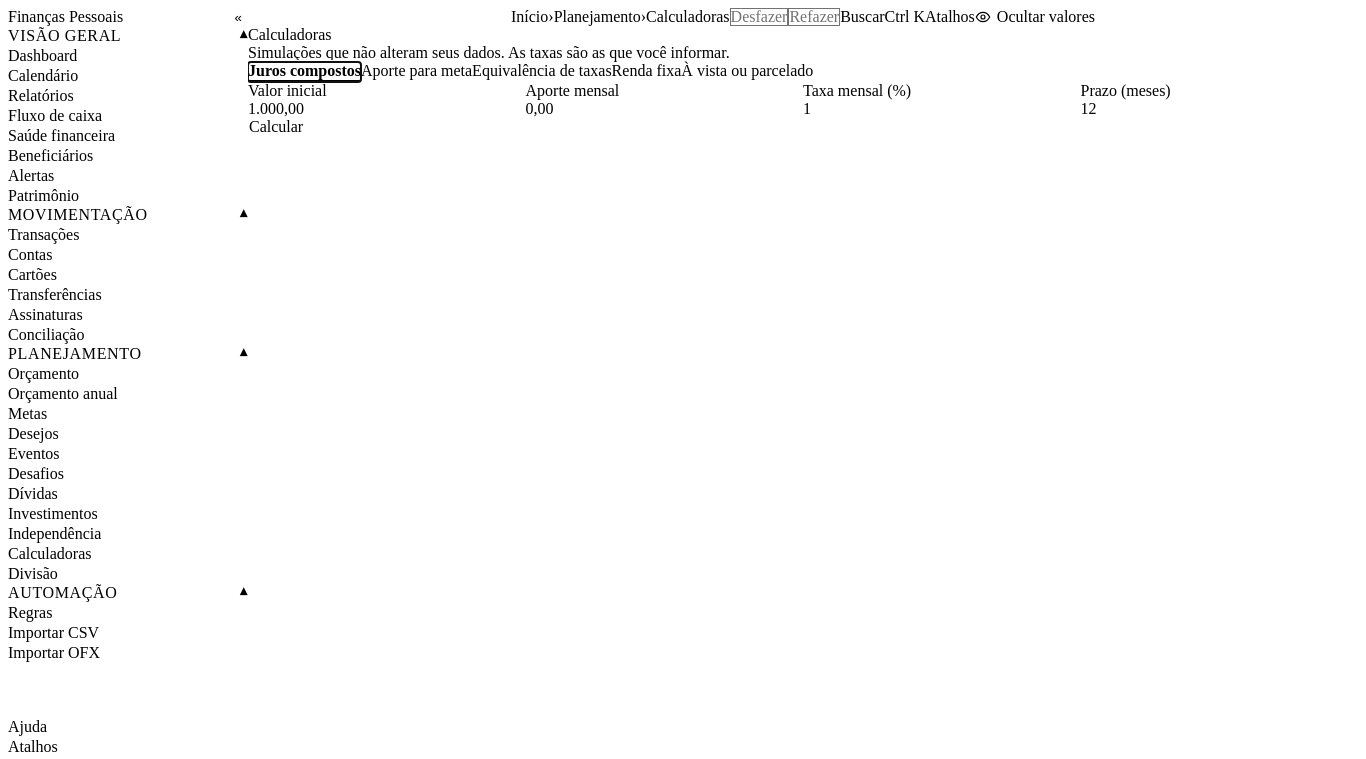
it: calculadoras: tela › critérios 1 e 7: troca de aba pelo teclado e veredito do parcelamento
Step 1. Press Arrowleft
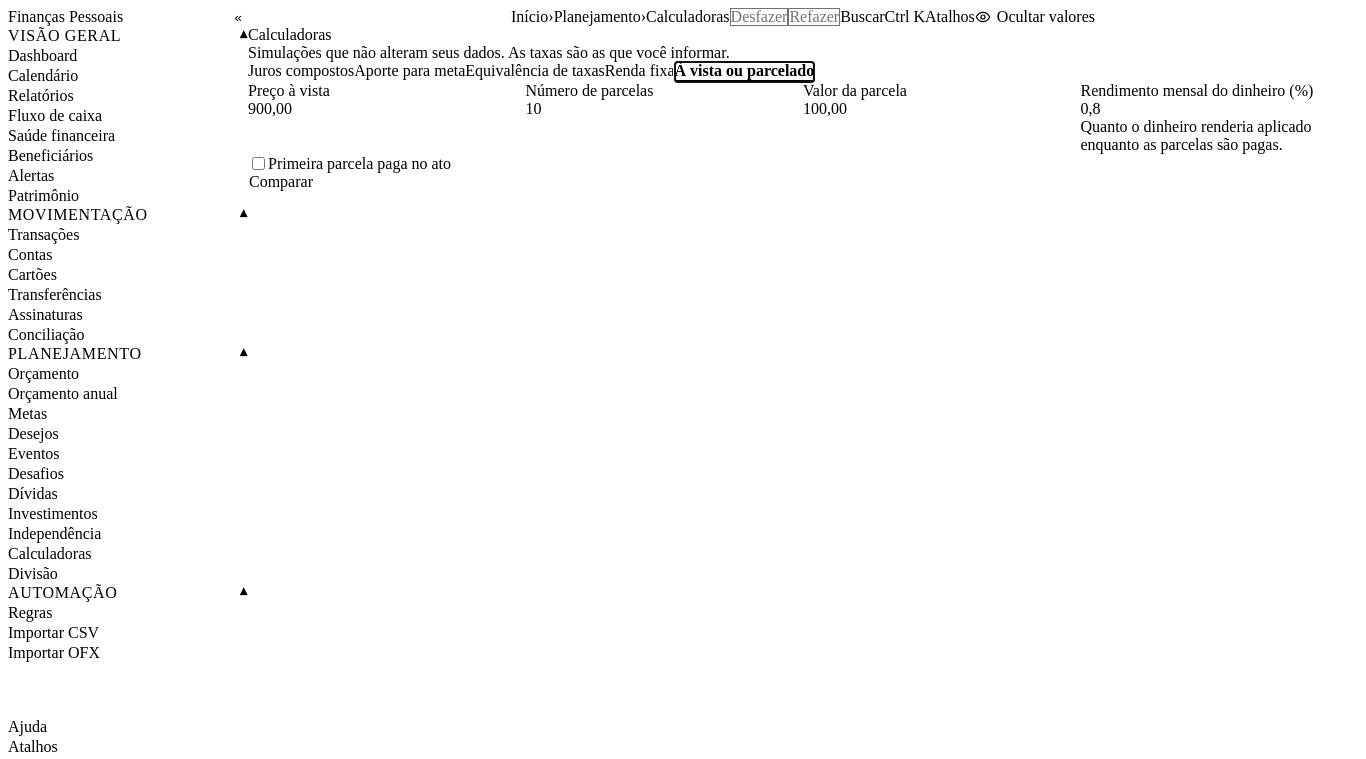
Expected: the tab "À vista ou parcelado" is selected, [674,62,814,82]
Step 2. Click the button "Comparar" → (281, 182), box [248,173,314,191]
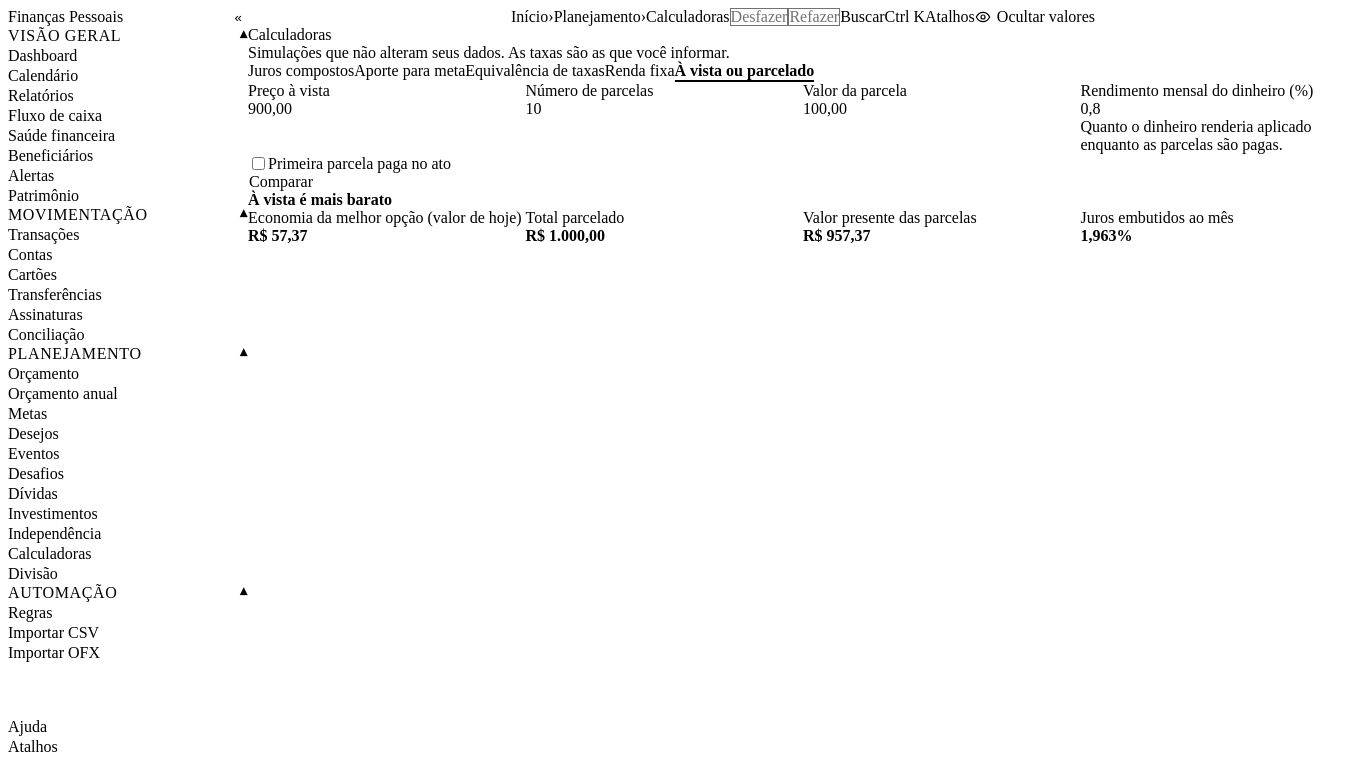
Expected: the heading "À vista é mais barato" is shown, [248,191,392,208]
